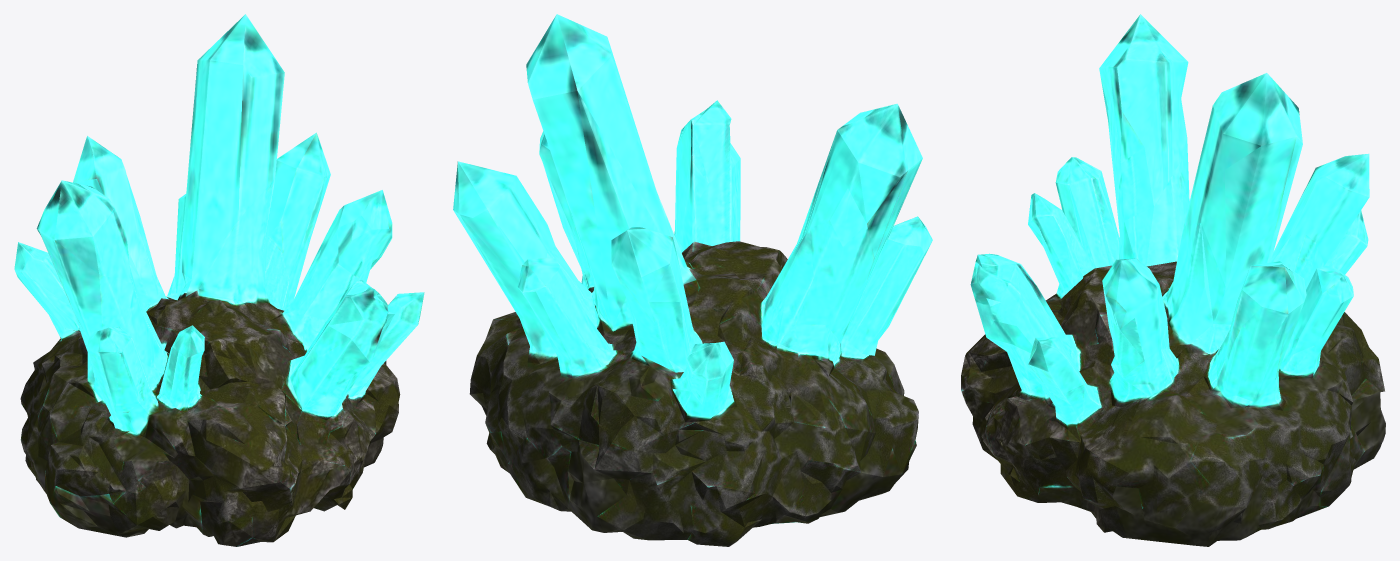
The model's file is sp_m_crystals.glb.
The picture shows the model from 3 angles, left to right: view 1: azimuth 30°, elevation 25°; view 2: azimuth 150°, elevation 25°; view 3: azimuth 270°, elevation 25°; orthographic projection. The views are drawn at different scales.
Parts seen in each view (by area): view 1: output_unwrapped; view 2: output_unwrapped; view 3: output_unwrapped.
Part boxes in pixels (x1,y1,x2,y2): output_unwrapped: (14, 14, 424, 546); output_unwrapped: (453, 14, 932, 546); output_unwrapped: (961, 14, 1385, 546).
Bounding box in the file's own units: 1.72 × 1.9 × 1.68.
1 material, 1 textured.
